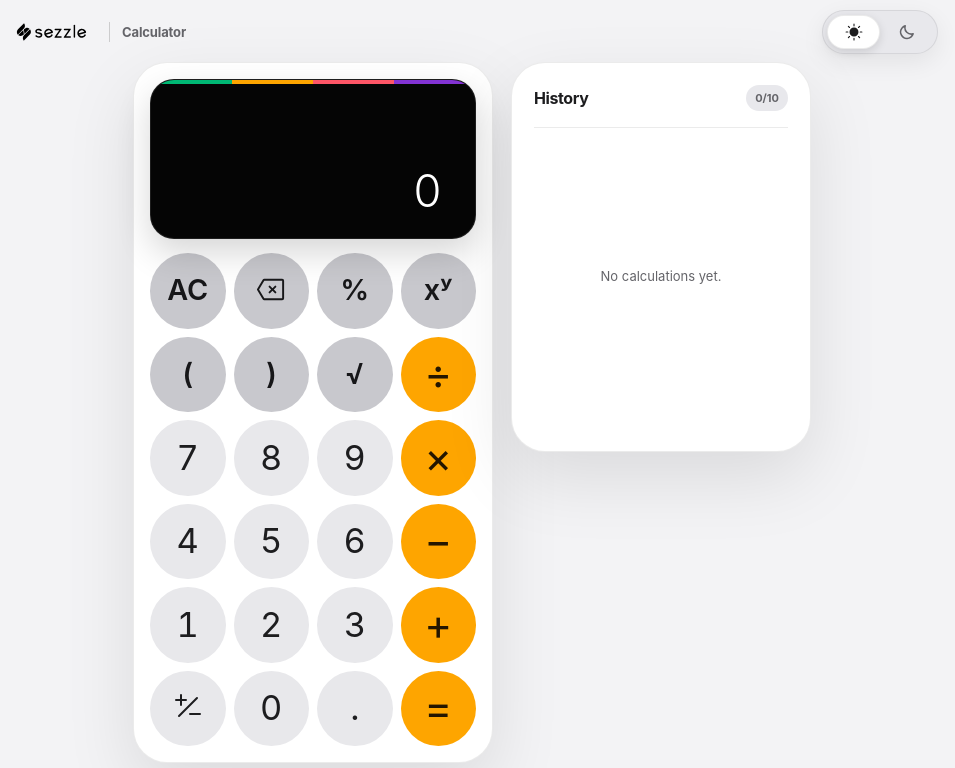
Scenario: calculator › wraps the current operand with square root and renders mathematical notation
Click the button "9" at (355, 458), box [317,420,392,496]
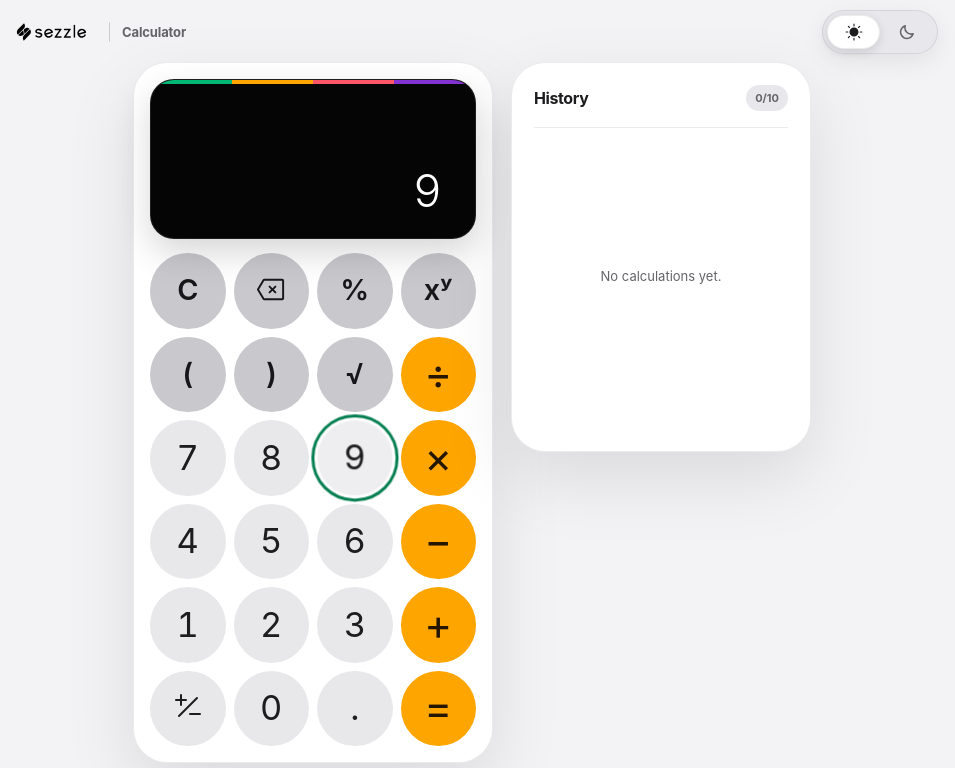
Click the button named "square root" at (355, 374), box [317,336,392,412]
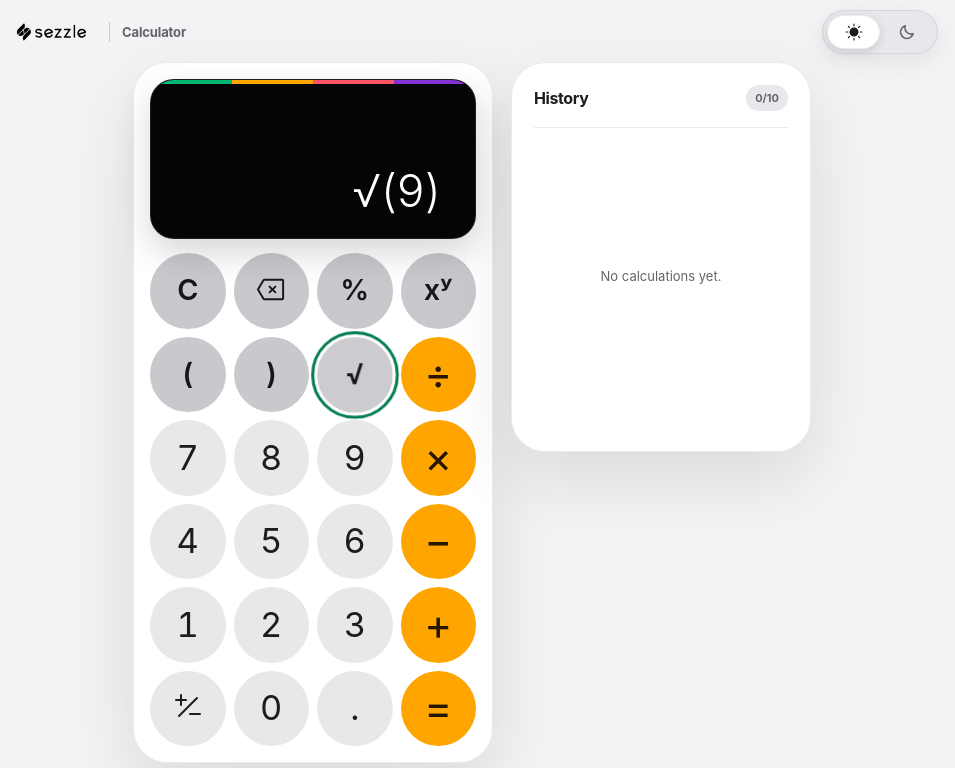
Check: the button named "clear" reads "C", box [150,253,226,328]
Check: the element named "result" reads "√(9)", box [353,163,441,218]
Click the button named "equals" at (438, 708), box [400,670,476,746]
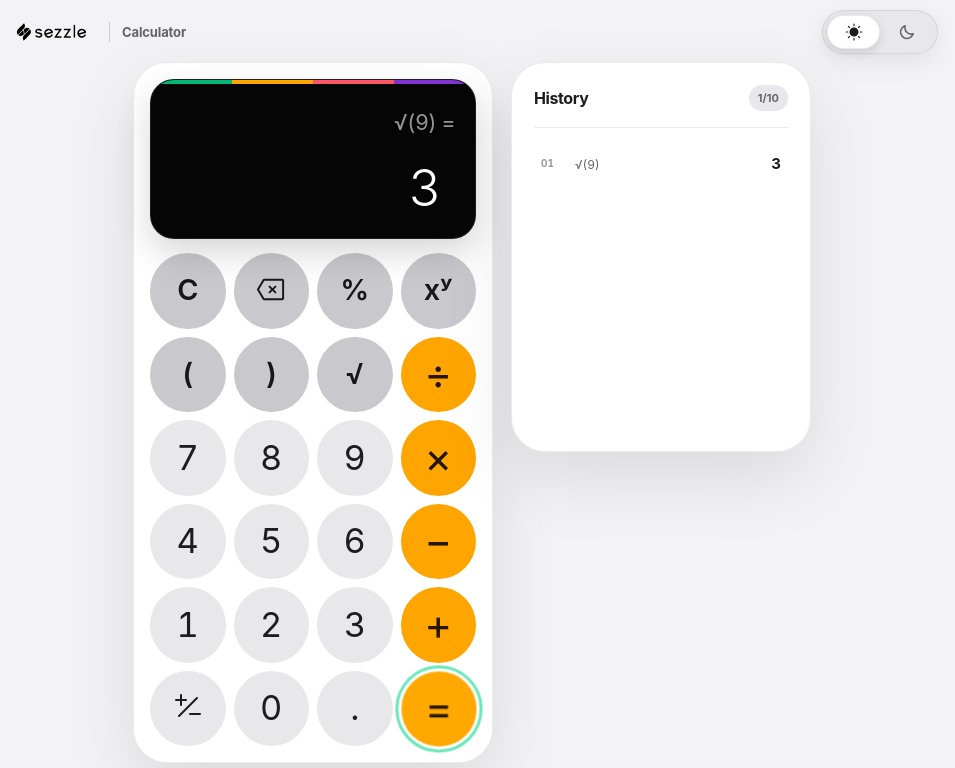
Check: the element named "result" reads "3", box [408,156,441,218]
Check: the text "√(9) =" is shown, box [394,109,455,135]
Check: the button named "square root open parenthesis 9 close parenthesis equals 3" shows "√(9)", box [534,136,788,190]
